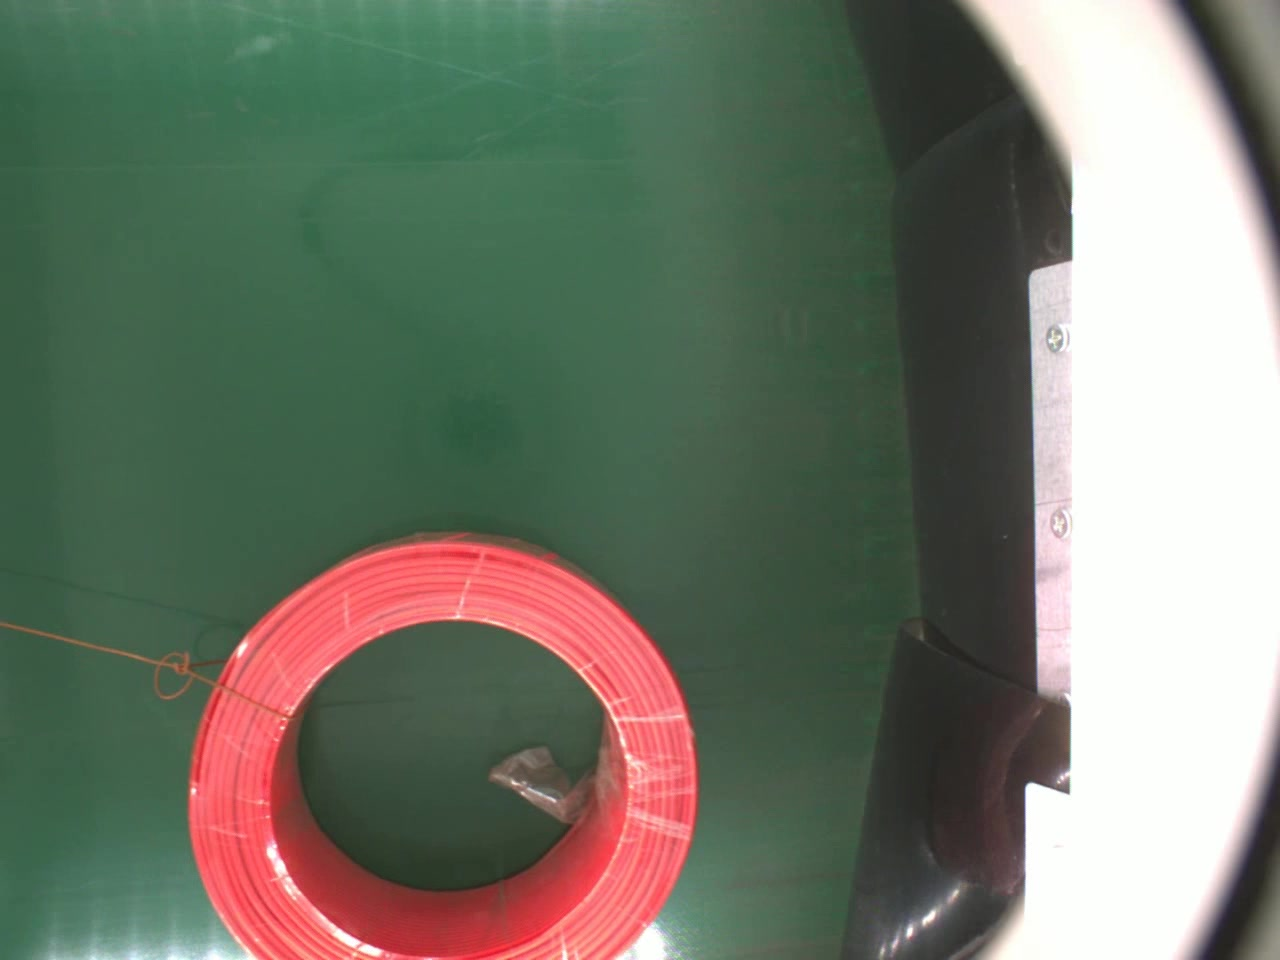red: (182, 525, 703, 960)
